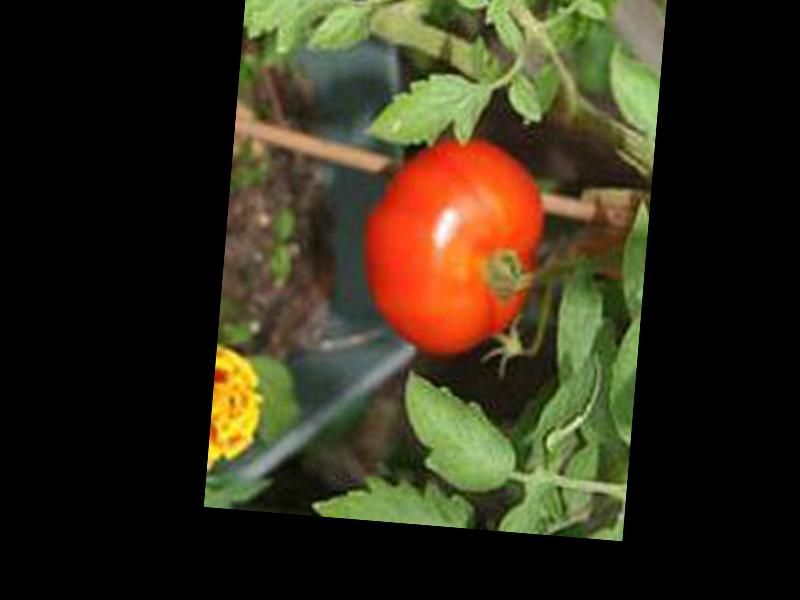Tomato: (358, 127, 551, 364)
